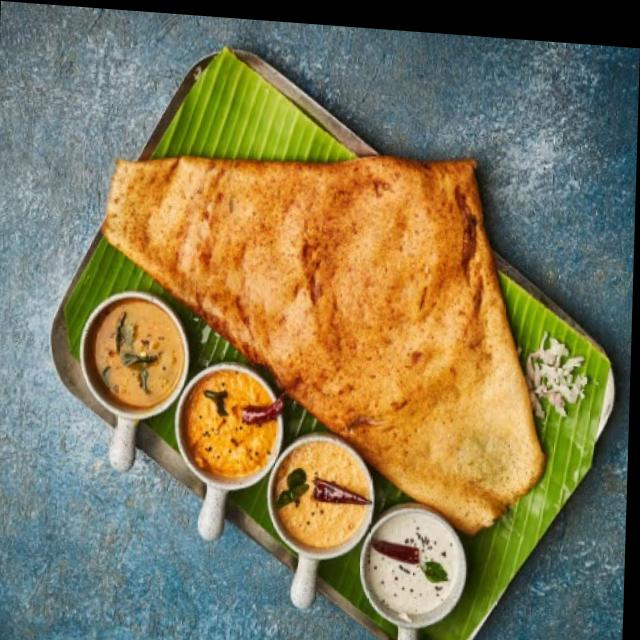DOSA: (105, 164, 544, 530)
RED CHUTNEY: (188, 375, 273, 475), (280, 445, 364, 541)
SAMBAR: (97, 307, 181, 402)
WHITE CHUTNEY: (372, 512, 457, 613)
